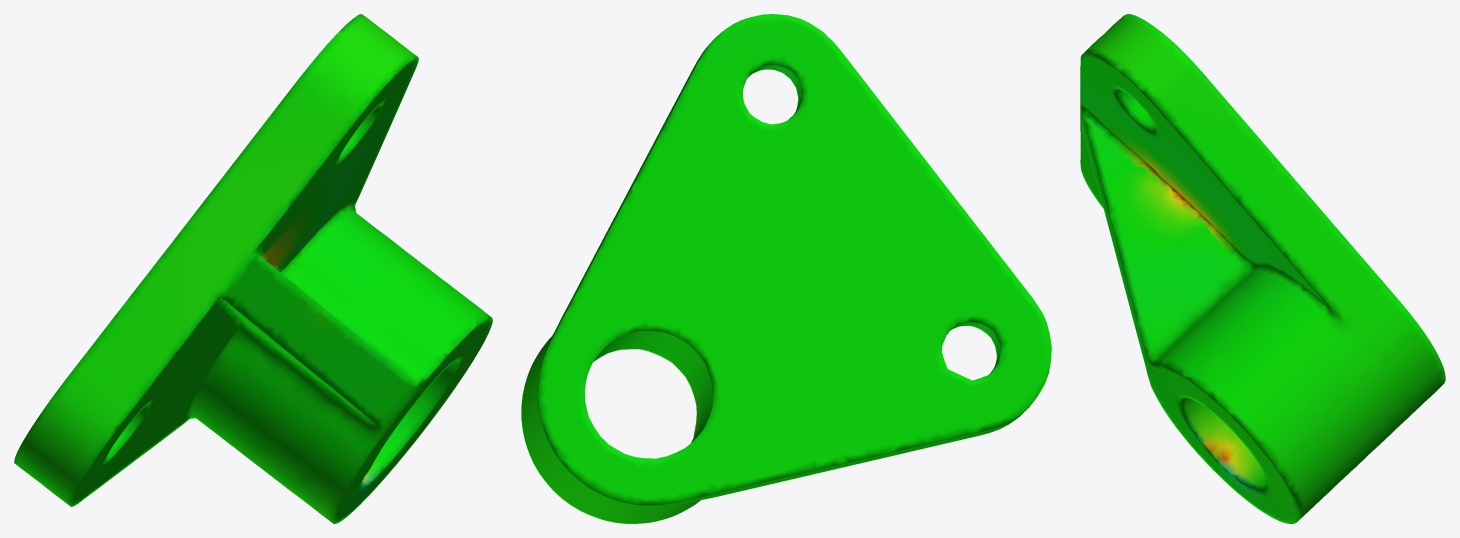
Rendered from all=0.000172-hole=0.002914-sgcn-w-refine.obj.
The picture shows the model from 3 angles, left to right: view 1: azimuth 30°, elevation 25°; view 2: azimuth 150°, elevation 25°; view 3: azimuth 270°, elevation 25°; orthographic projection. The views are drawn at different scales.
Bounding box in the file's own units: 61.62 × 61.59 × 44.11.
